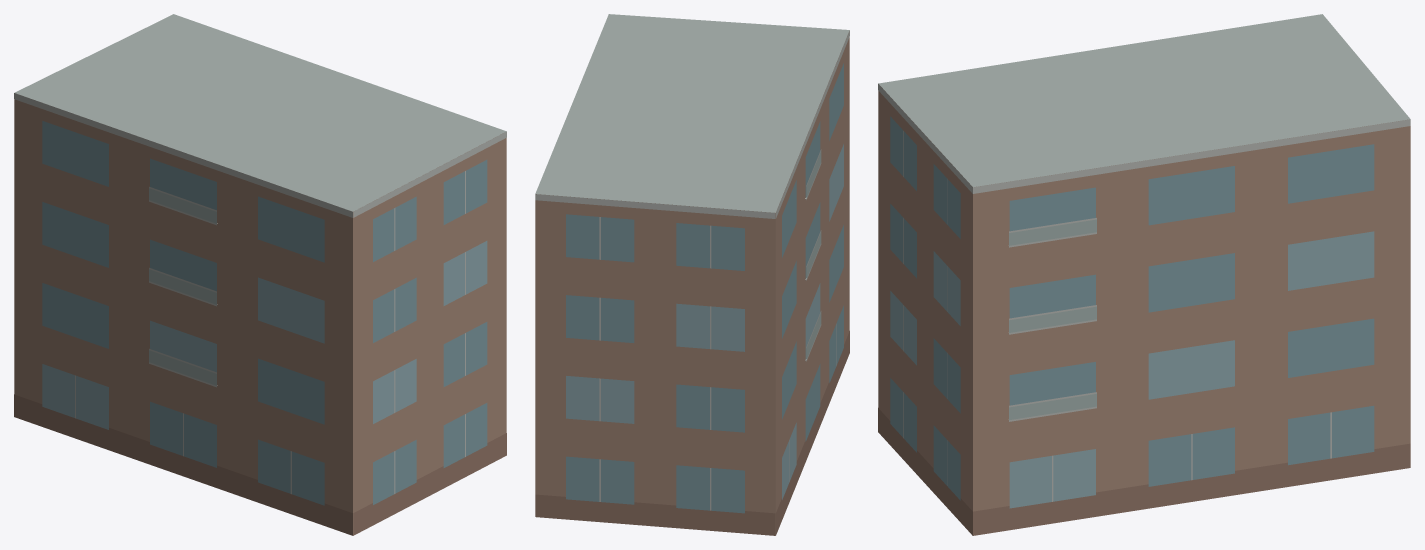
The model's file is survey-upis-32861617.glb.
3 views of the same model, side by side, from view 1: azimuth 30°, elevation 25°; view 2: azimuth 150°, elevation 25°; view 3: azimuth 270°, elevation 25° (orthographic). The views are drawn at different scales.
Parts seen in each view (by area): view 1: survey-upis-32861617.tmp; view 2: survey-upis-32861617.tmp; view 3: survey-upis-32861617.tmp.
Part boxes in pixels (<box>): survey-upis-32861617.tmp: <box>14,14,506,535</box>; survey-upis-32861617.tmp: <box>535,14,849,535</box>; survey-upis-32861617.tmp: <box>878,14,1410,535</box>.
Bounding box in the file's own units: 13.43 × 12.59 × 17.44.
